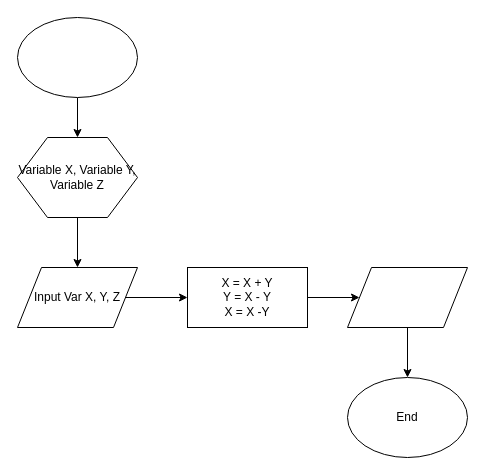
Some shapes in this 485 by 475 pixel diagram are drawn without their labels. The centre of each missing label's shape, as x and y in pixels:
Start: point (77, 57)
Tampilkan Var X Y: point (407, 297)
